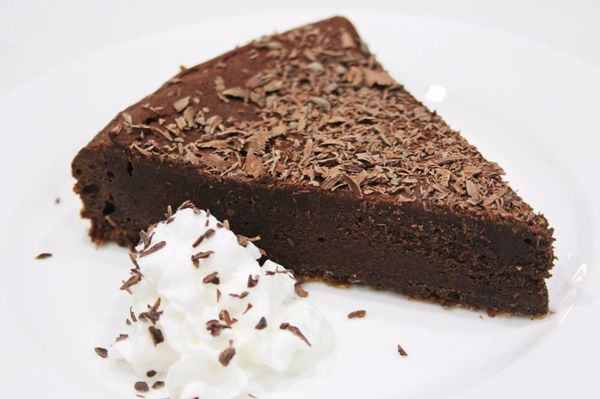sushi: (72, 15, 559, 318)
